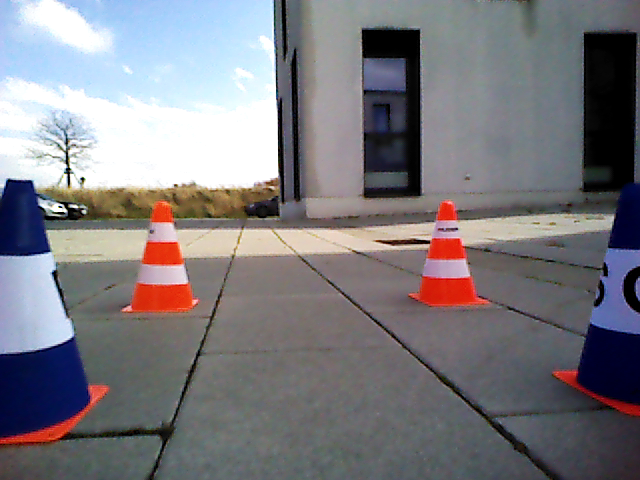bluecone: (1, 177, 94, 442), (579, 181, 639, 397)
orangeconesmall: (132, 196, 196, 310), (417, 200, 480, 304)
